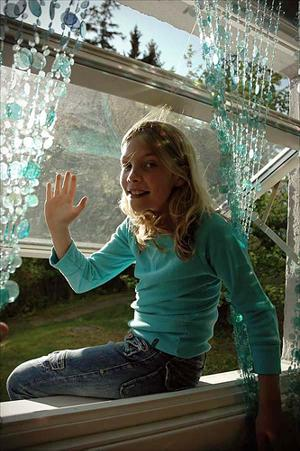person: (5, 118, 285, 448)
